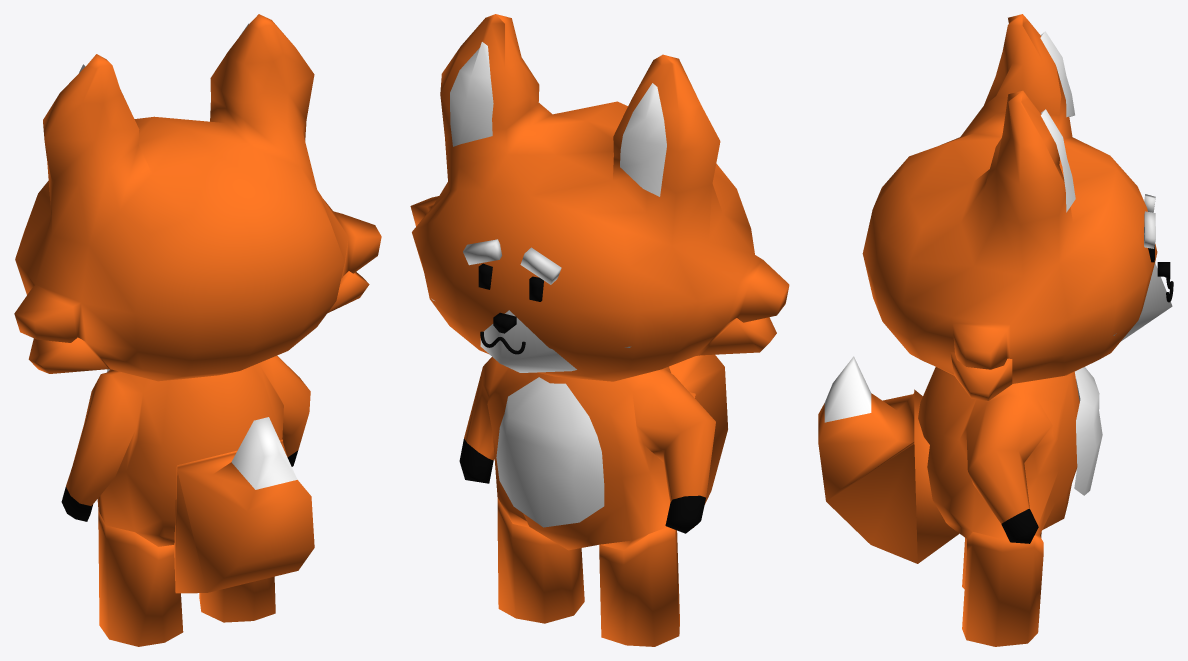
Rendered from raposa_laranja.glb.
3 renders of one model, left to right at view 1: azimuth 30°, elevation 25°; view 2: azimuth 150°, elevation 25°; view 3: azimuth 270°, elevation 25°, orthographic. The views are drawn at different scales.
Parts seen in each view (by area): view 1: Cube, Cube.001, Cubo.003; view 2: Cube, Cube.001, Cube.006, Cube.003, Cubo.003, Cube.002, Cubo, Cubo.001; view 3: Cube, Cube.001, Cubo.003, Cube.006, Cube.003, Cube.002, Cubo.
Part boxes in pixels (left/top/right/bottom): Cube: left=14, top=14, right=381, bottom=381; Cube.001: left=61, top=355, right=310, bottom=646; Cubo.003: left=174, top=417, right=314, bottom=593; Cube: left=410, top=14, right=789, bottom=381; Cube.001: left=459, top=357, right=715, bottom=646; Cube.006: left=496, top=377, right=604, bottom=527; Cube.003: left=450, top=42, right=666, bottom=196; Cubo.003: left=669, top=354, right=727, bottom=527; Cube.002: left=431, top=298, right=631, bottom=372; Cubo: left=463, top=239, right=561, bottom=284; Cubo.001: left=478, top=263, right=543, bottom=301; Cube: left=862, top=14, right=1157, bottom=400; Cube.001: left=918, top=367, right=1079, bottom=646; Cubo.003: left=818, top=356, right=959, bottom=563; Cube.006: left=1074, top=367, right=1102, bottom=495; Cube.003: left=1040, top=31, right=1075, bottom=212; Cube.002: left=1113, top=263, right=1172, bottom=341; Cubo: left=1144, top=194, right=1155, bottom=248.
Bounding box in the file's own units: 2.33 × 3.54 × 2.05.
